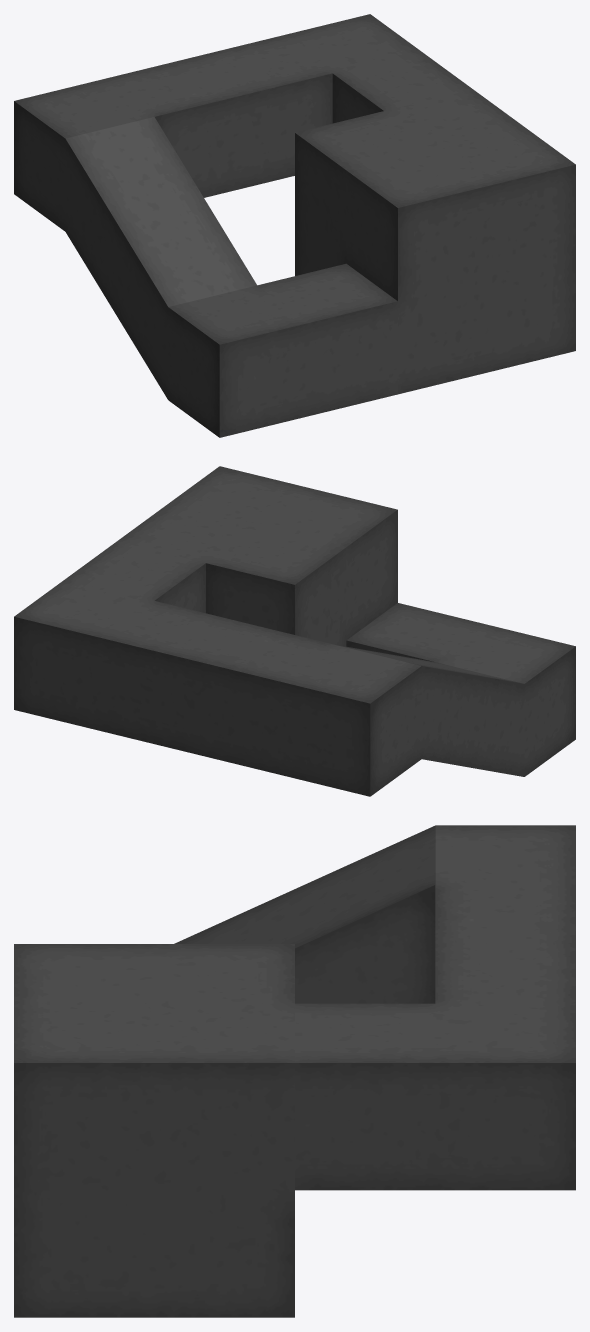
The model's file is map1.obj.
3 renders of one model, top to bottom at view 1: azimuth 30°, elevation 25°; view 2: azimuth 150°, elevation 25°; view 3: azimuth 270°, elevation 25°, orthographic. The views are drawn at different scales.
Parts seen in each view (by area): view 1: Cube; view 2: Cube; view 3: Cube.
Boxes of the visible parts, x1,y1,x2,y2 form: Cube: (14,14,575,437); Cube: (14,466,575,796); Cube: (14,825,575,1317).
Bounding box in the file's own units: 512 × 256 × 512.
Materials: 1 (1 with a texture image).
